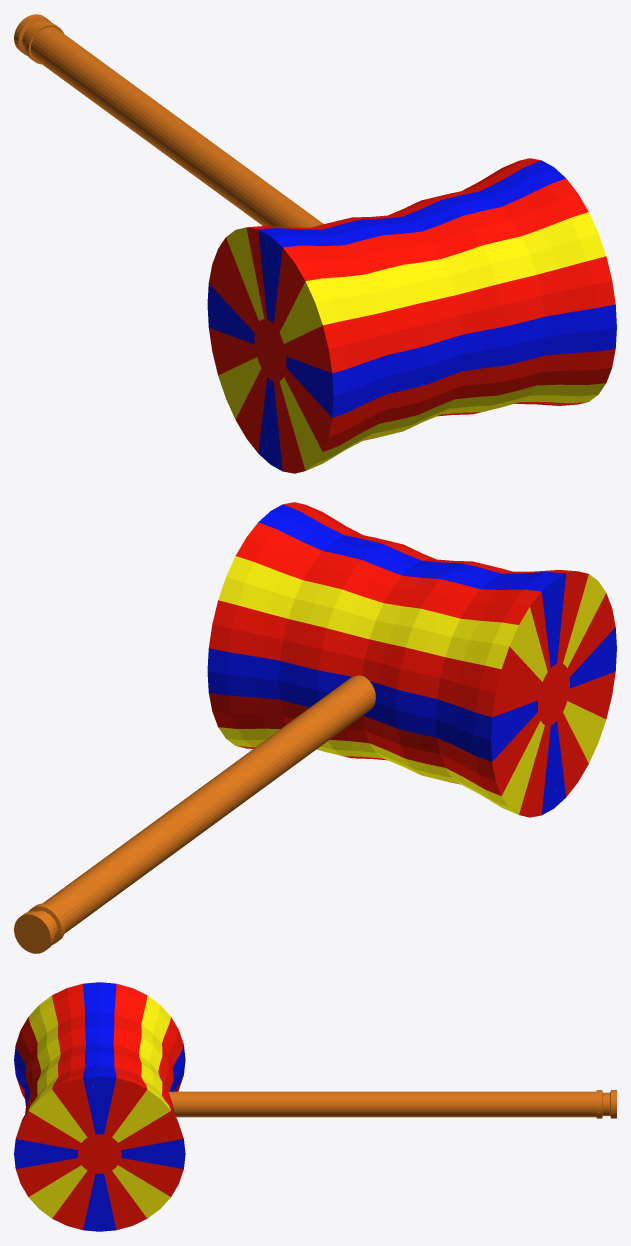
File: Hammer.fbx
3 renders of one model, top to bottom at view 1: azimuth 30°, elevation 25°; view 2: azimuth 150°, elevation 25°; view 3: azimuth 270°, elevation 25°, orthographic. The views are drawn at different scales.
Parts seen in each view (by area): view 1: Cylinder, HammerH; view 2: Cylinder, HammerH; view 3: Cylinder, HammerH.
Boxes of the visible parts, left/top/right/bottom form: Cylinder: left=207, top=158, right=616, bottom=473; HammerH: left=14, top=14, right=323, bottom=227; Cylinder: left=207, top=502, right=616, bottom=817; HammerH: left=14, top=675, right=375, bottom=953; Cylinder: left=14, top=982, right=185, bottom=1231; HammerH: left=168, top=1090, right=616, bottom=1118.
Size of the model in its own units: 651 by 501 by 1761.
